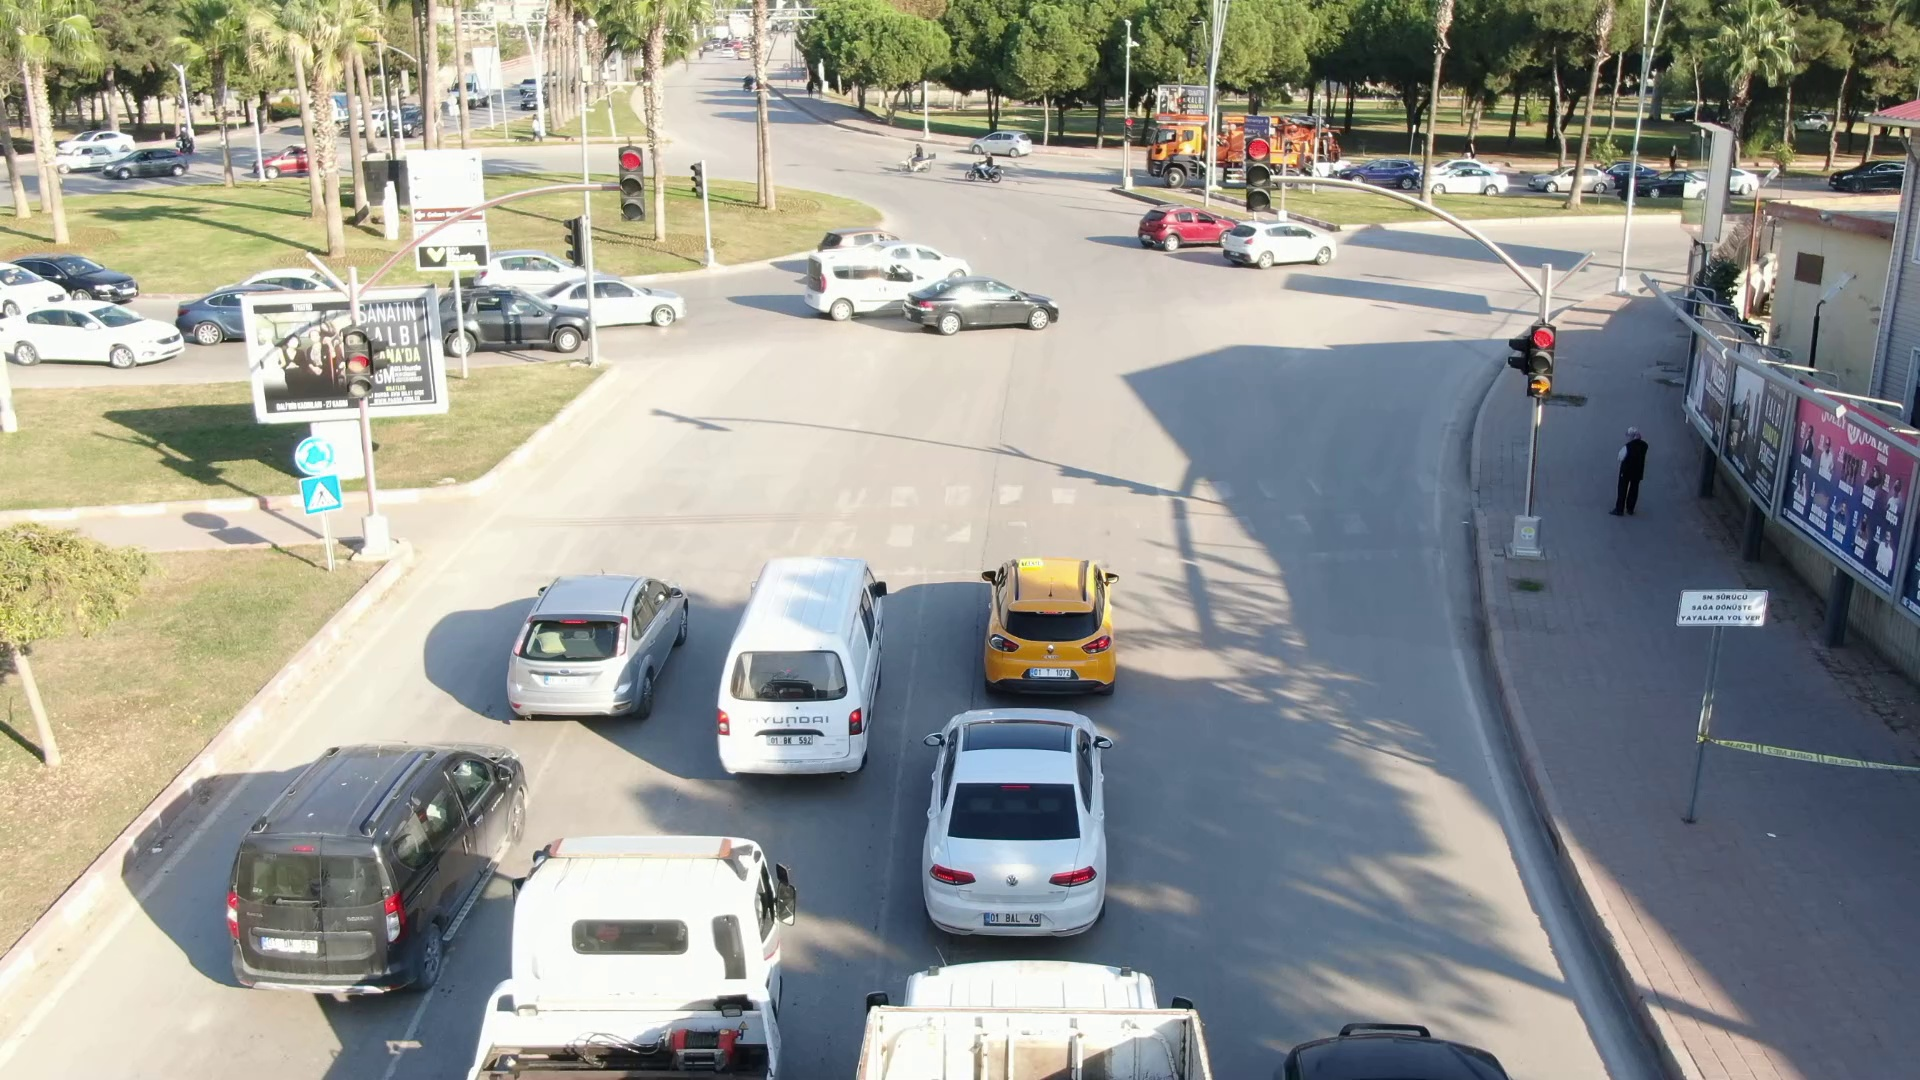car: (222, 741, 527, 997), (920, 705, 1116, 945), (711, 553, 893, 778), (498, 570, 694, 727), (977, 550, 1124, 699), (1, 294, 189, 367), (436, 282, 588, 355), (803, 249, 935, 328), (903, 276, 1059, 336), (538, 274, 694, 322), (1221, 215, 1335, 270), (1137, 207, 1237, 249), (1821, 156, 1905, 196), (102, 142, 189, 181), (1425, 164, 1513, 200), (1528, 164, 1623, 196), (963, 129, 1036, 160)
